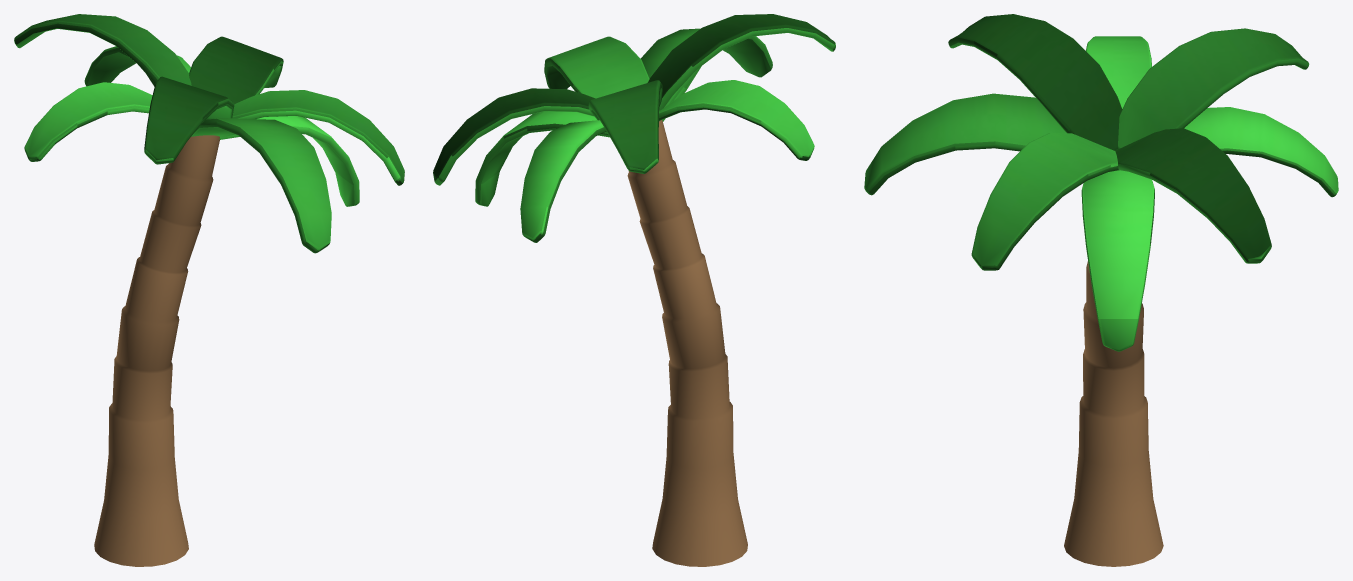
Rendered from palma2.fbx.
The picture shows the model from 3 angles, left to right: view 1: azimuth 30°, elevation 25°; view 2: azimuth 150°, elevation 25°; view 3: azimuth 270°, elevation 25°; orthographic projection. The views are drawn at different scales.
Parts seen in each view (by area): view 1: Stablo.002; view 2: Stablo.002; view 3: Stablo.002.
Boxes of the visible parts, x1,y1,x2,y2 form: Stablo.002: [14, 14, 404, 566]; Stablo.002: [433, 14, 835, 566]; Stablo.002: [864, 14, 1338, 566].
Size of the model in its own units: 530 by 769 by 640.
2 materials, 1 textured.
